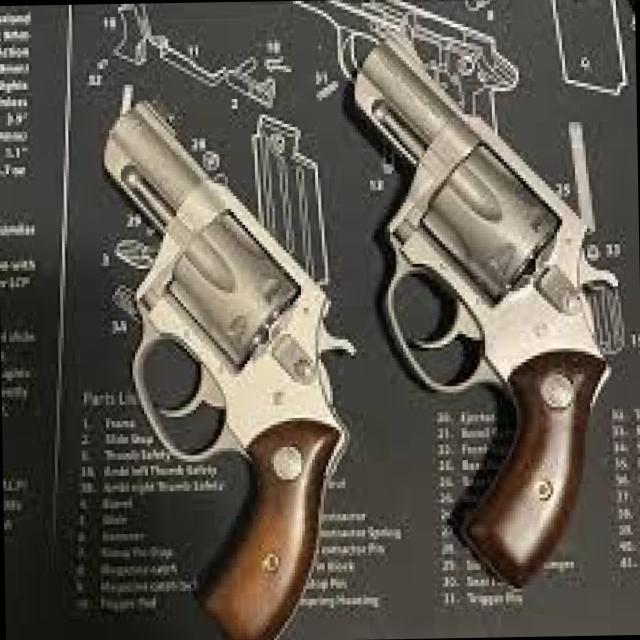Gun: (47, 91, 423, 640), (306, 17, 640, 521)
